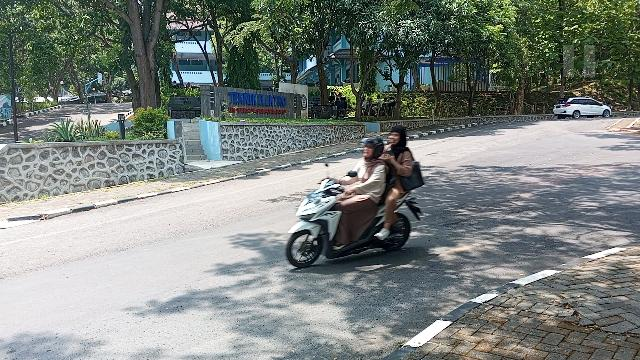helm: (362, 139, 385, 160), (390, 127, 407, 148)
motor: (287, 179, 424, 269)
